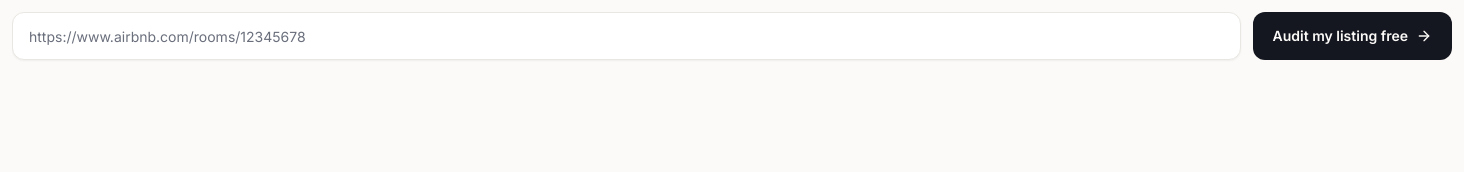
Test case: UrlForm › rejects a non-Airbnb hostname
The width and height of the screenshot is (1464, 172).
Type "https://www.example.com/rooms/12345" into the field with placeholder "https://www.airbnb.com/rooms/12345678" at point(626, 36), box [12,12,1240,60]
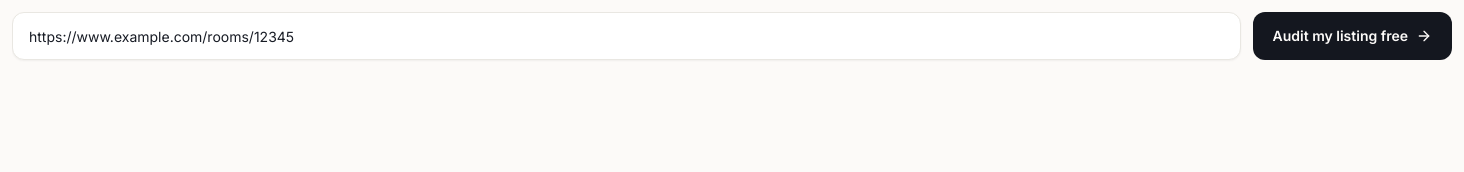
Click the button "Audit my listing free" at point(1352, 36), box [1252,12,1452,60]
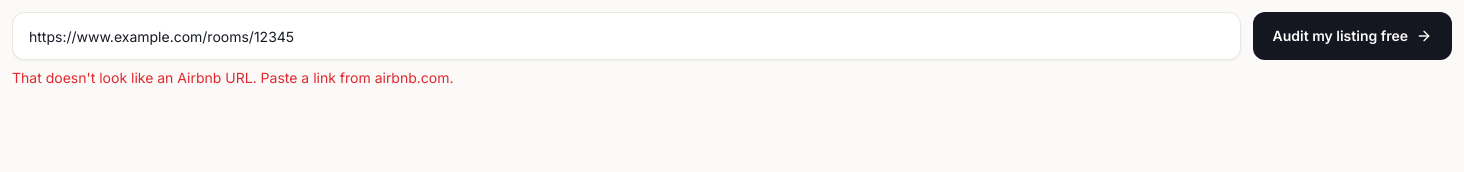
Now the message shows "doesn't look like an Airbnb URL", box [12,69,454,86]
